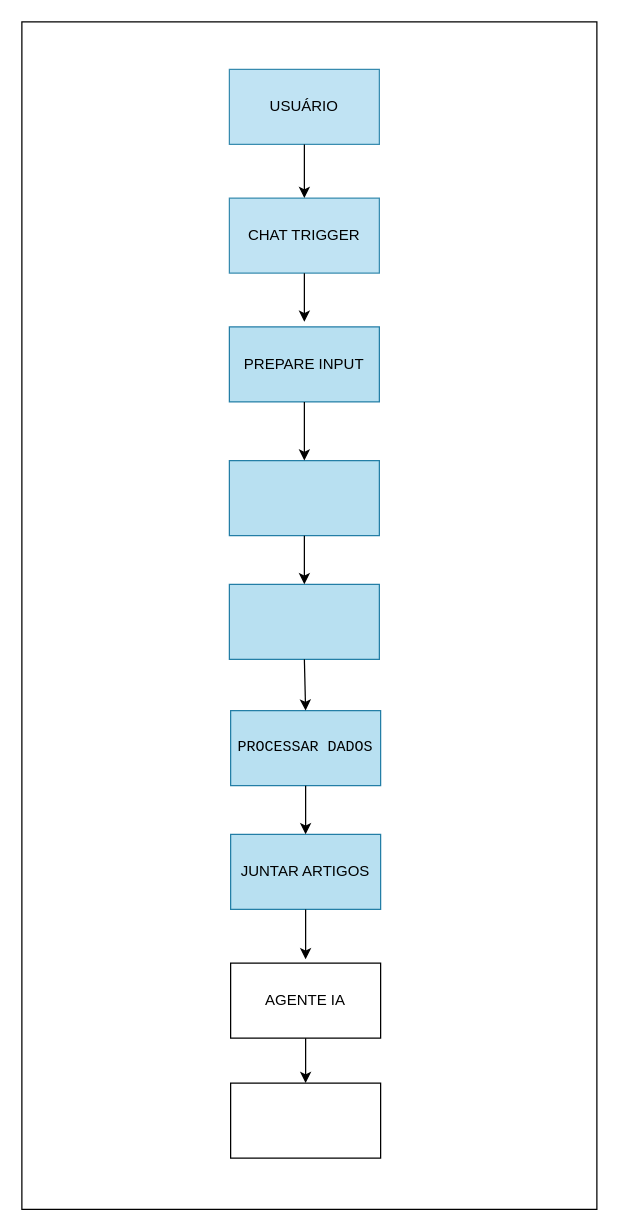
This 619x1231 diagram has some shape labels left out. The shapes that lost their labels are listed below. From the top down, each one's centre as x and y in pixels, then its label:
At pixel 303 497: "LER RSS FEED".
At pixel 303 621: "LIMITAR ARTIGOS".
At pixel 305 1120: "RESPOSTA".
